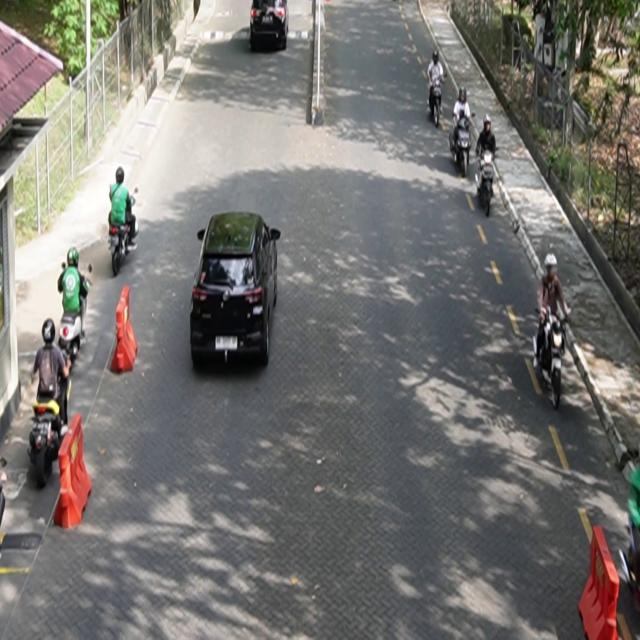car: (190, 211, 282, 369), (250, 1, 290, 52)
